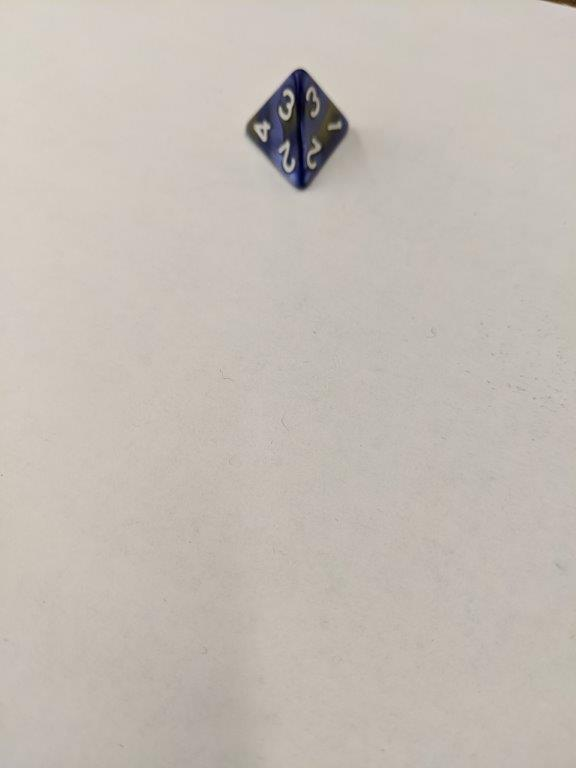d4-3: (245, 67, 353, 192)
